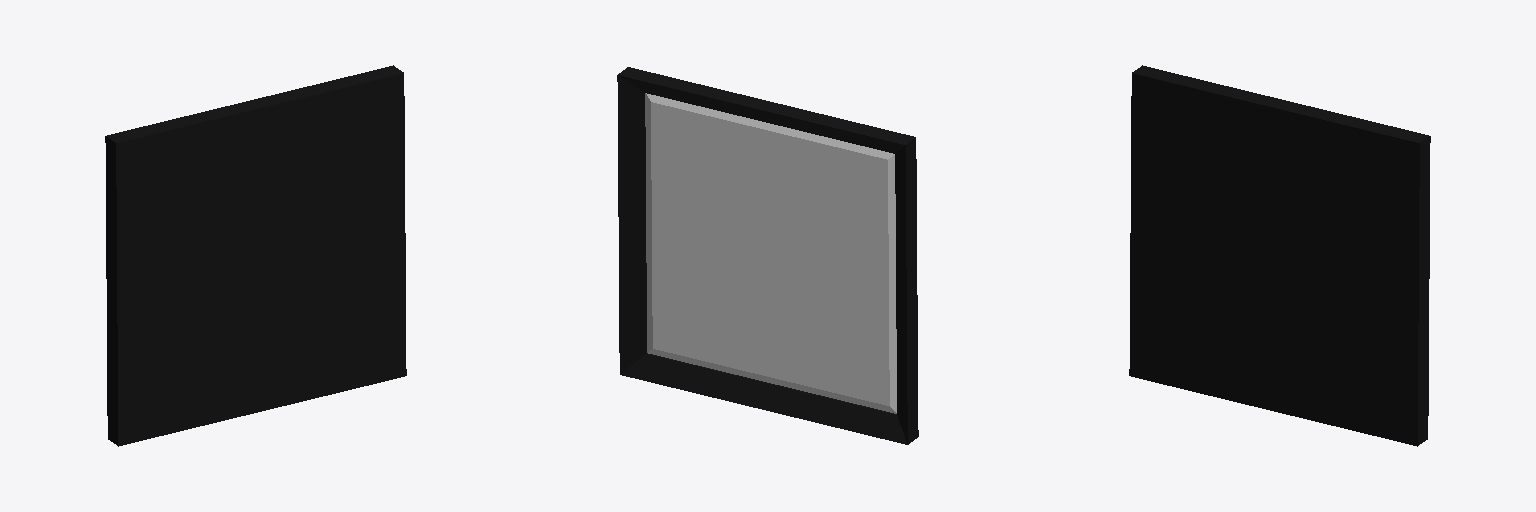
The model's file is frame.obj.
The picture shows the model from 3 angles: view 1: azimuth 30°, elevation 25°; view 2: azimuth 150°, elevation 25°; view 3: azimuth 330°, elevation 25°; orthographic projection.
Visible parts, largest first — view 1: frame; view 2: frame; view 3: frame.
Boxes of the visible parts, x1=… form: frame: x1=105, y1=65, x2=406, y2=446; frame: x1=617, y1=67, x2=918, y2=444; frame: x1=1129, y1=65, x2=1430, y2=446.
Bounding box in the file's own units: 78.39 × 78.45 × 6.1.